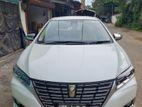car: (12, 16, 137, 107)
